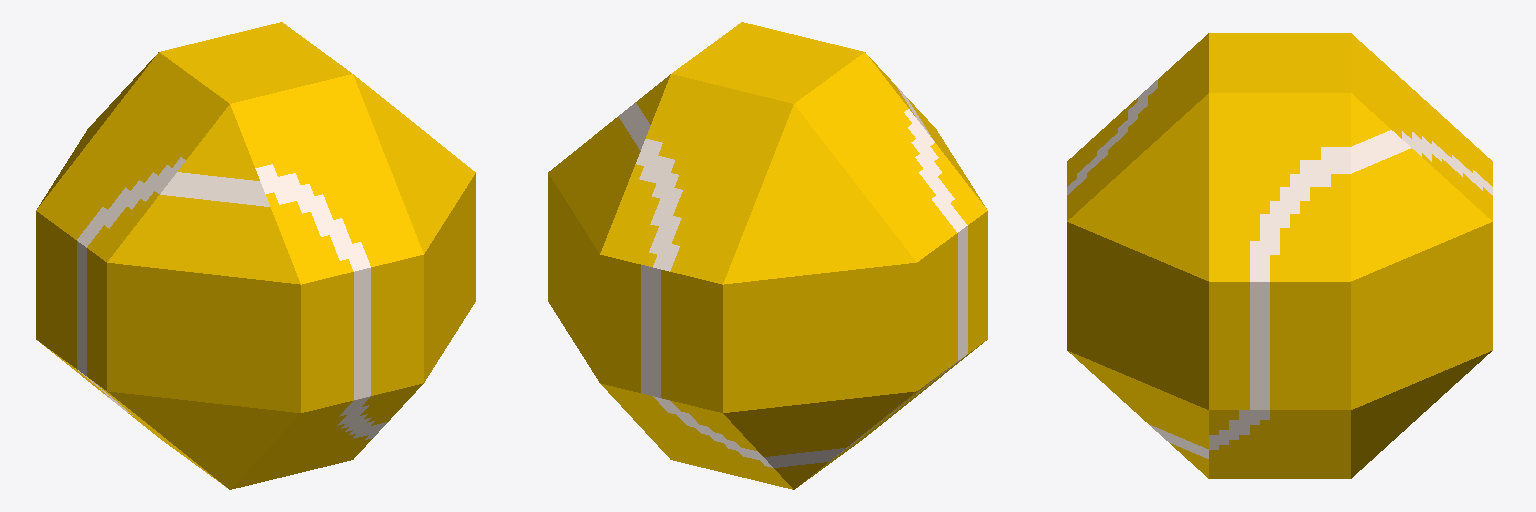
The picture shows the model from 3 angles: view 1: azimuth 30°, elevation 25°; view 2: azimuth 150°, elevation 25°; view 3: azimuth 270°, elevation 25°; orthographic projection.
Parts seen in each view (by area): view 1: tennisball; view 2: tennisball; view 3: tennisball.
Boxes of the visible parts, <box> form: tennisball: <box>36,22,475,489</box>; tennisball: <box>548,22,987,489</box>; tennisball: <box>1067,33,1492,478</box>.
Size of the model in its own units: 13.97 by 13.97 by 13.97.
Materials: 1 (1 with a texture image).